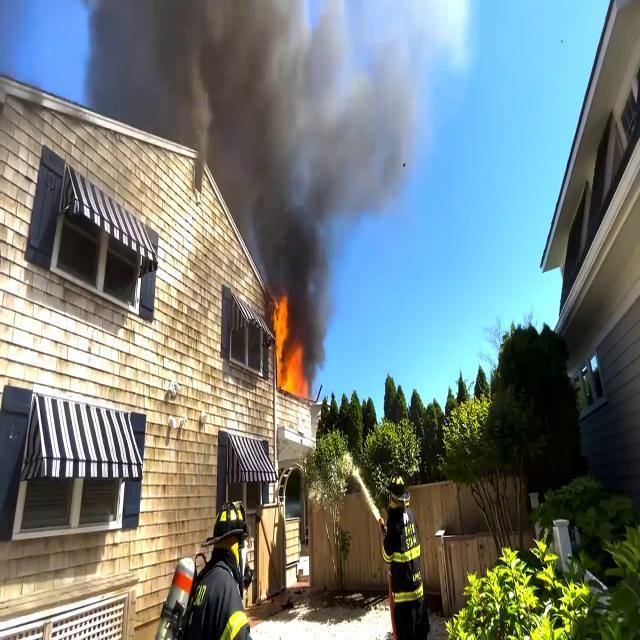Fire: (264, 290, 316, 414)
Smoke: (85, 0, 338, 189), (219, 0, 336, 332)
